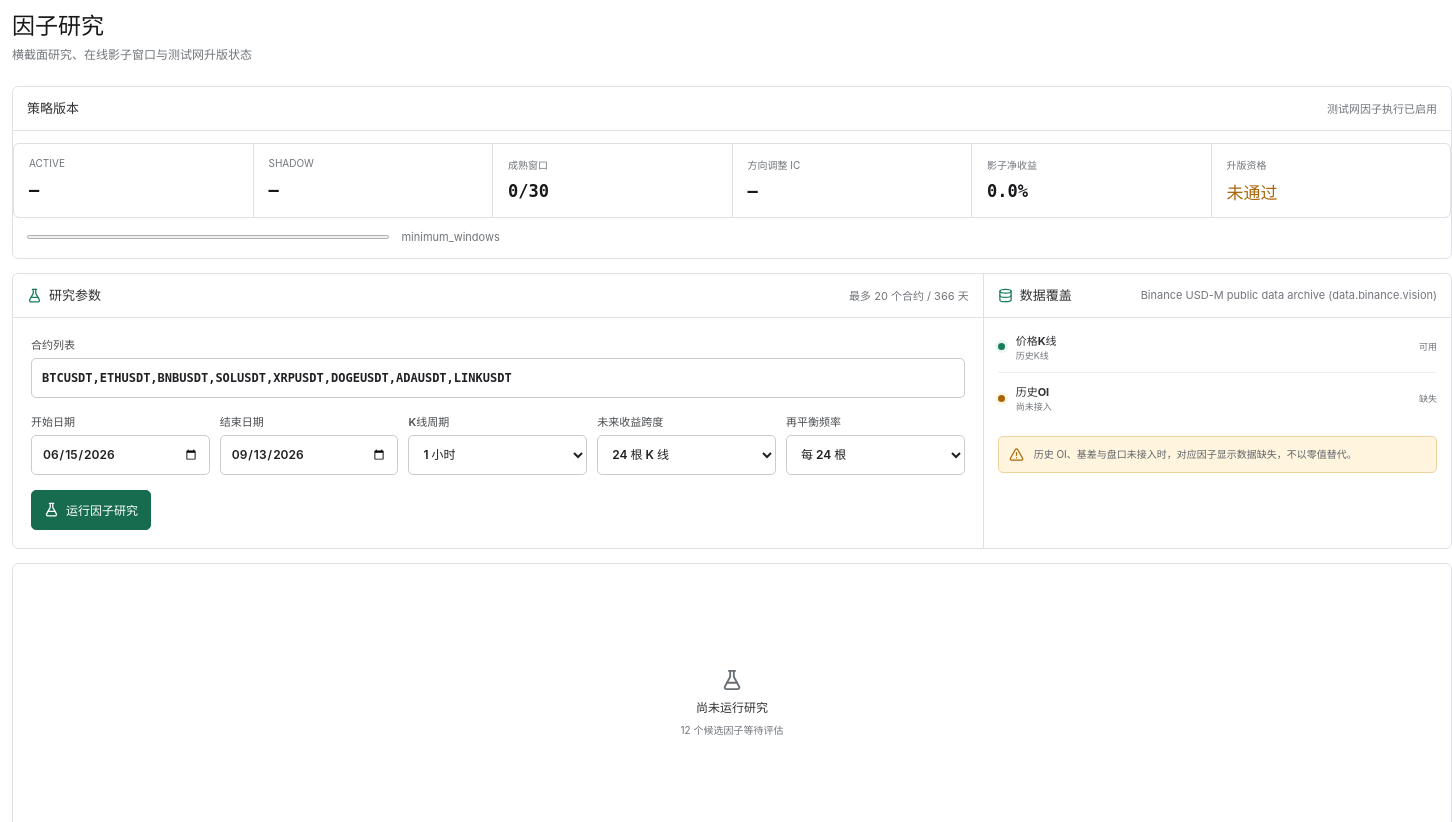
shows the persisted error when a queued run fails
Expected: the text "价格K线" is shown, [1016,334,1056,348]
What coordinates should you click on to do the following:
click the button "运行因子研究"
I would click on:
 (91, 510)
Its box is [31,490,151,530].
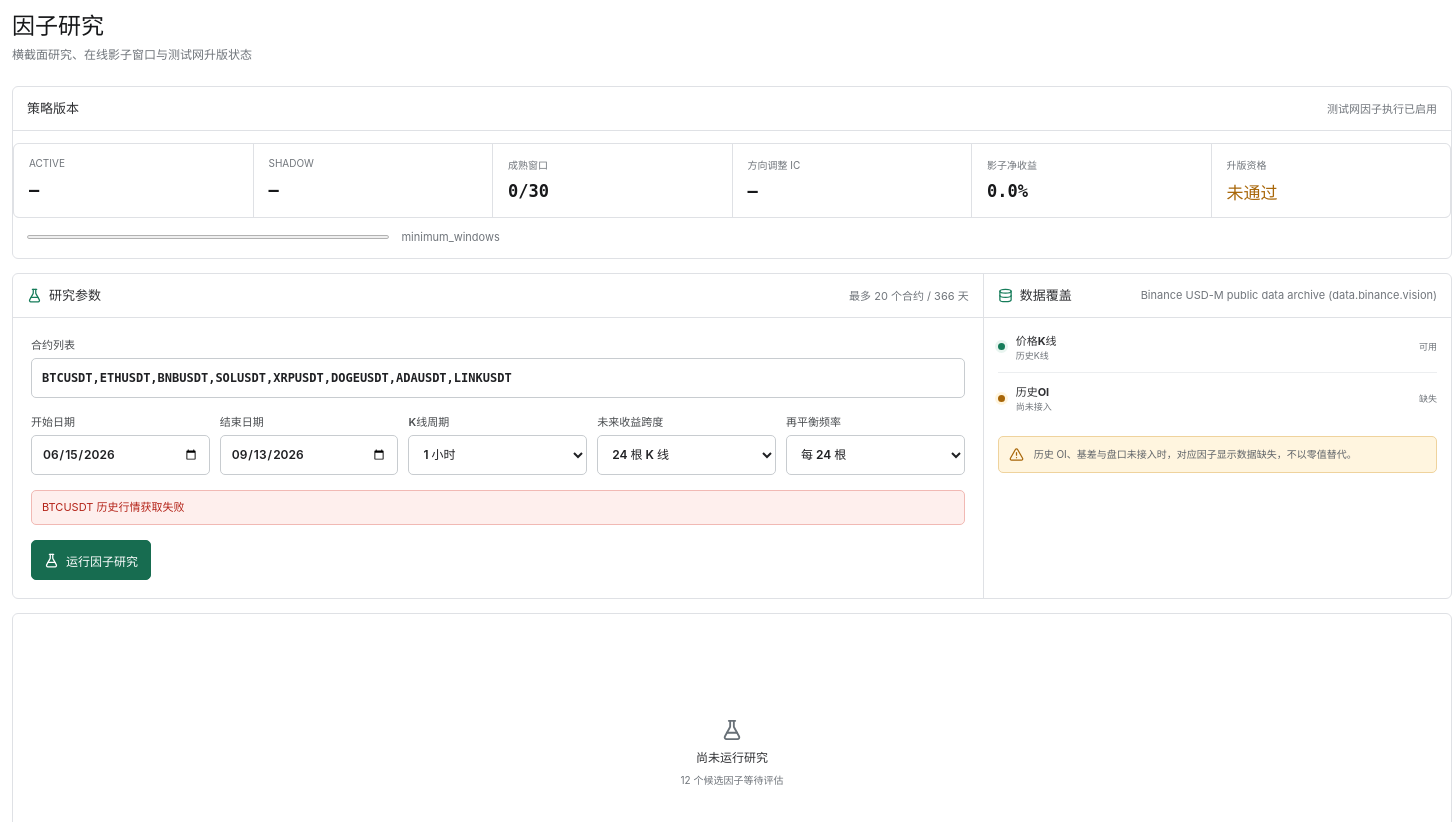
Expected: the text "尚未运行研究" is shown, [696,748,768,765]
Now the message reads "BTCUSDT 历史行情获取失败", box [42,500,184,514]
